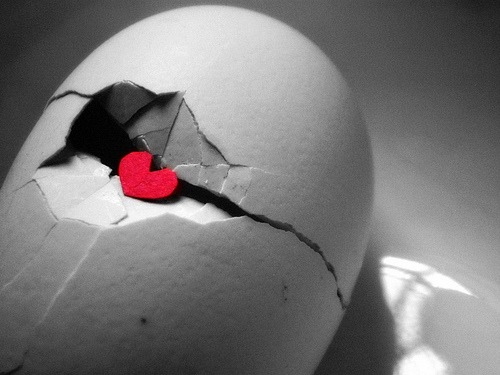egg: (0, 5, 375, 374)
